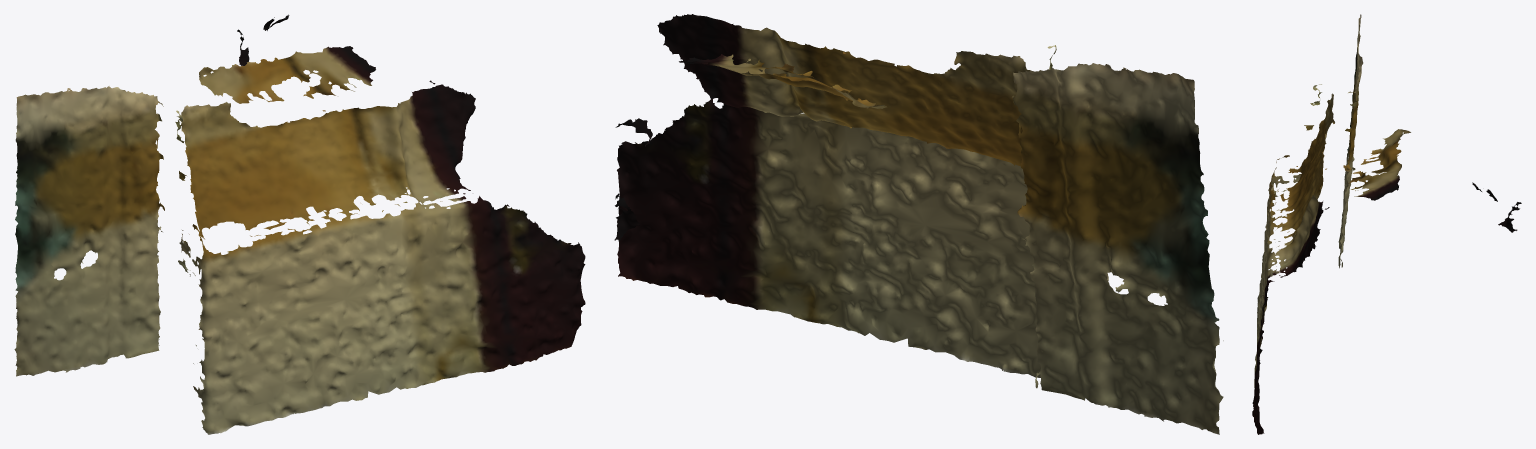
File: color_model_f009_20260211_234606.obj
3 renders of one model, left to right at view 1: azimuth 30°, elevation 25°; view 2: azimuth 150°, elevation 25°; view 3: azimuth 270°, elevation 25°, orthographic. The views are drawn at different scales.
Bounding box in the file's own units: 2.12 × 1.27 × 1.27.
